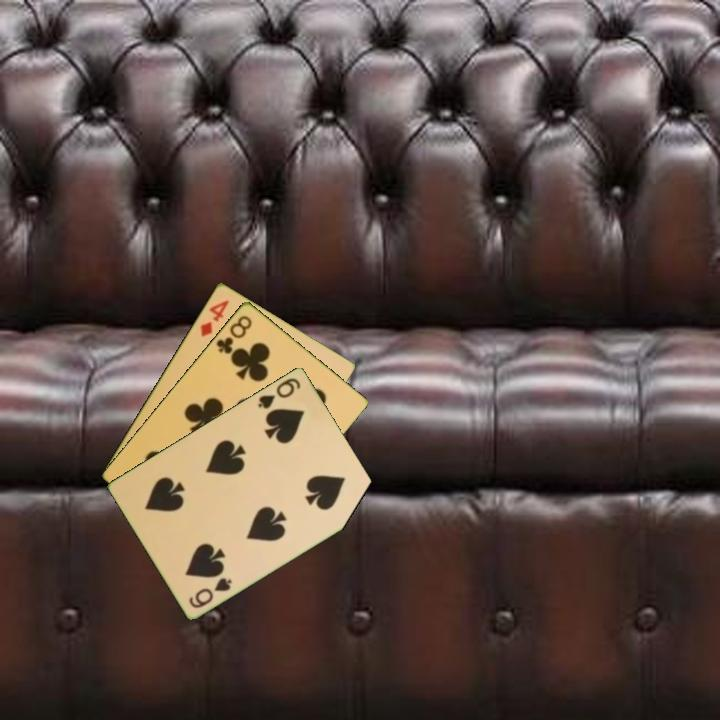4d: (196, 296, 232, 339)
6s: (185, 574, 235, 611), (254, 374, 303, 411)
8c: (212, 311, 255, 357)
